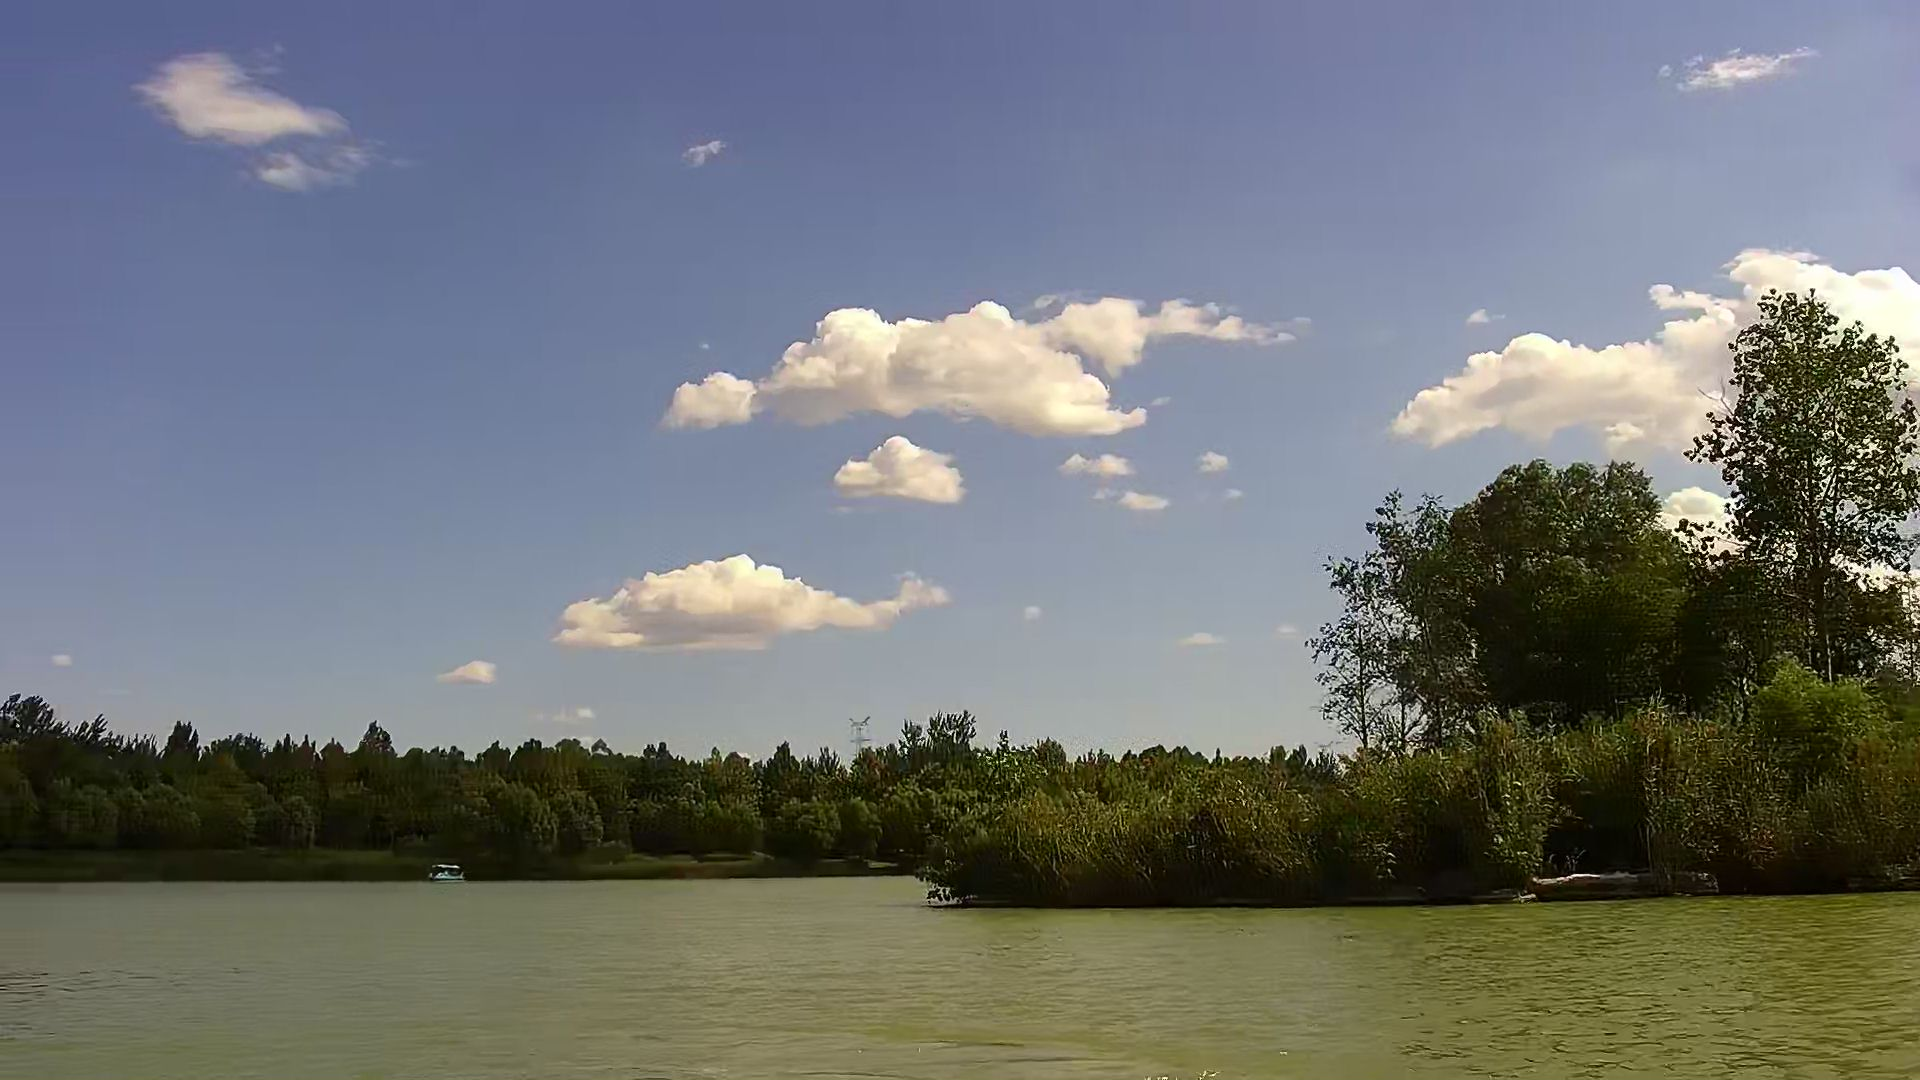boat: (426, 861, 464, 884)
